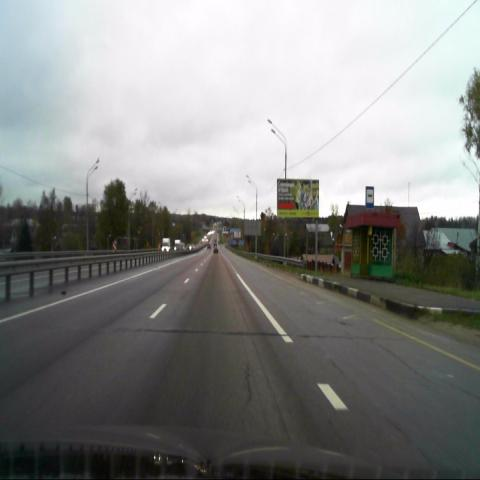5_16: (365, 186, 374, 209)
